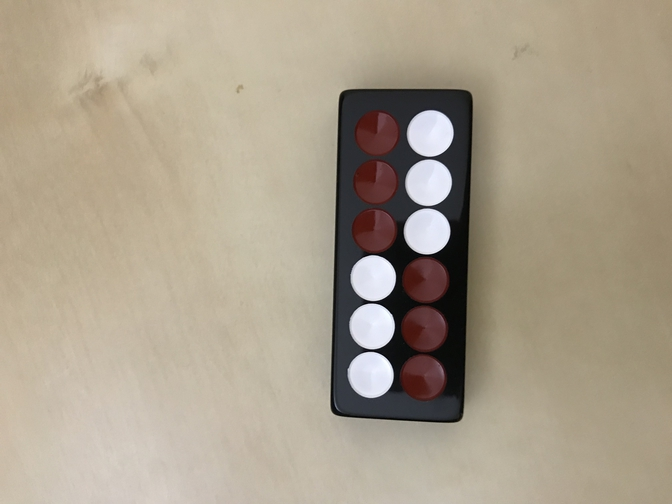heaven: (329, 88, 475, 425)
